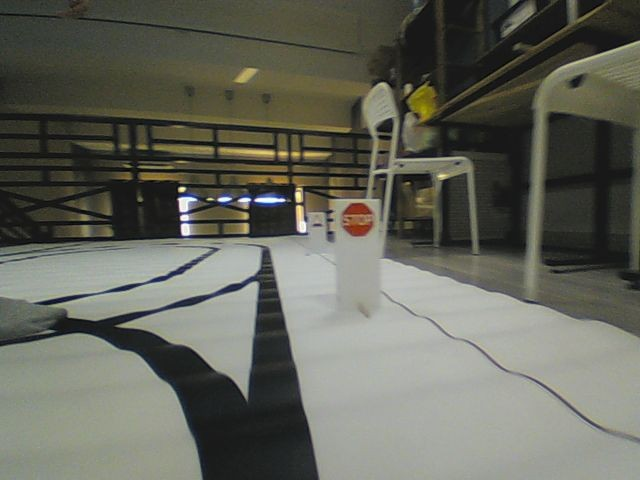Stop: (339, 202, 375, 237)
